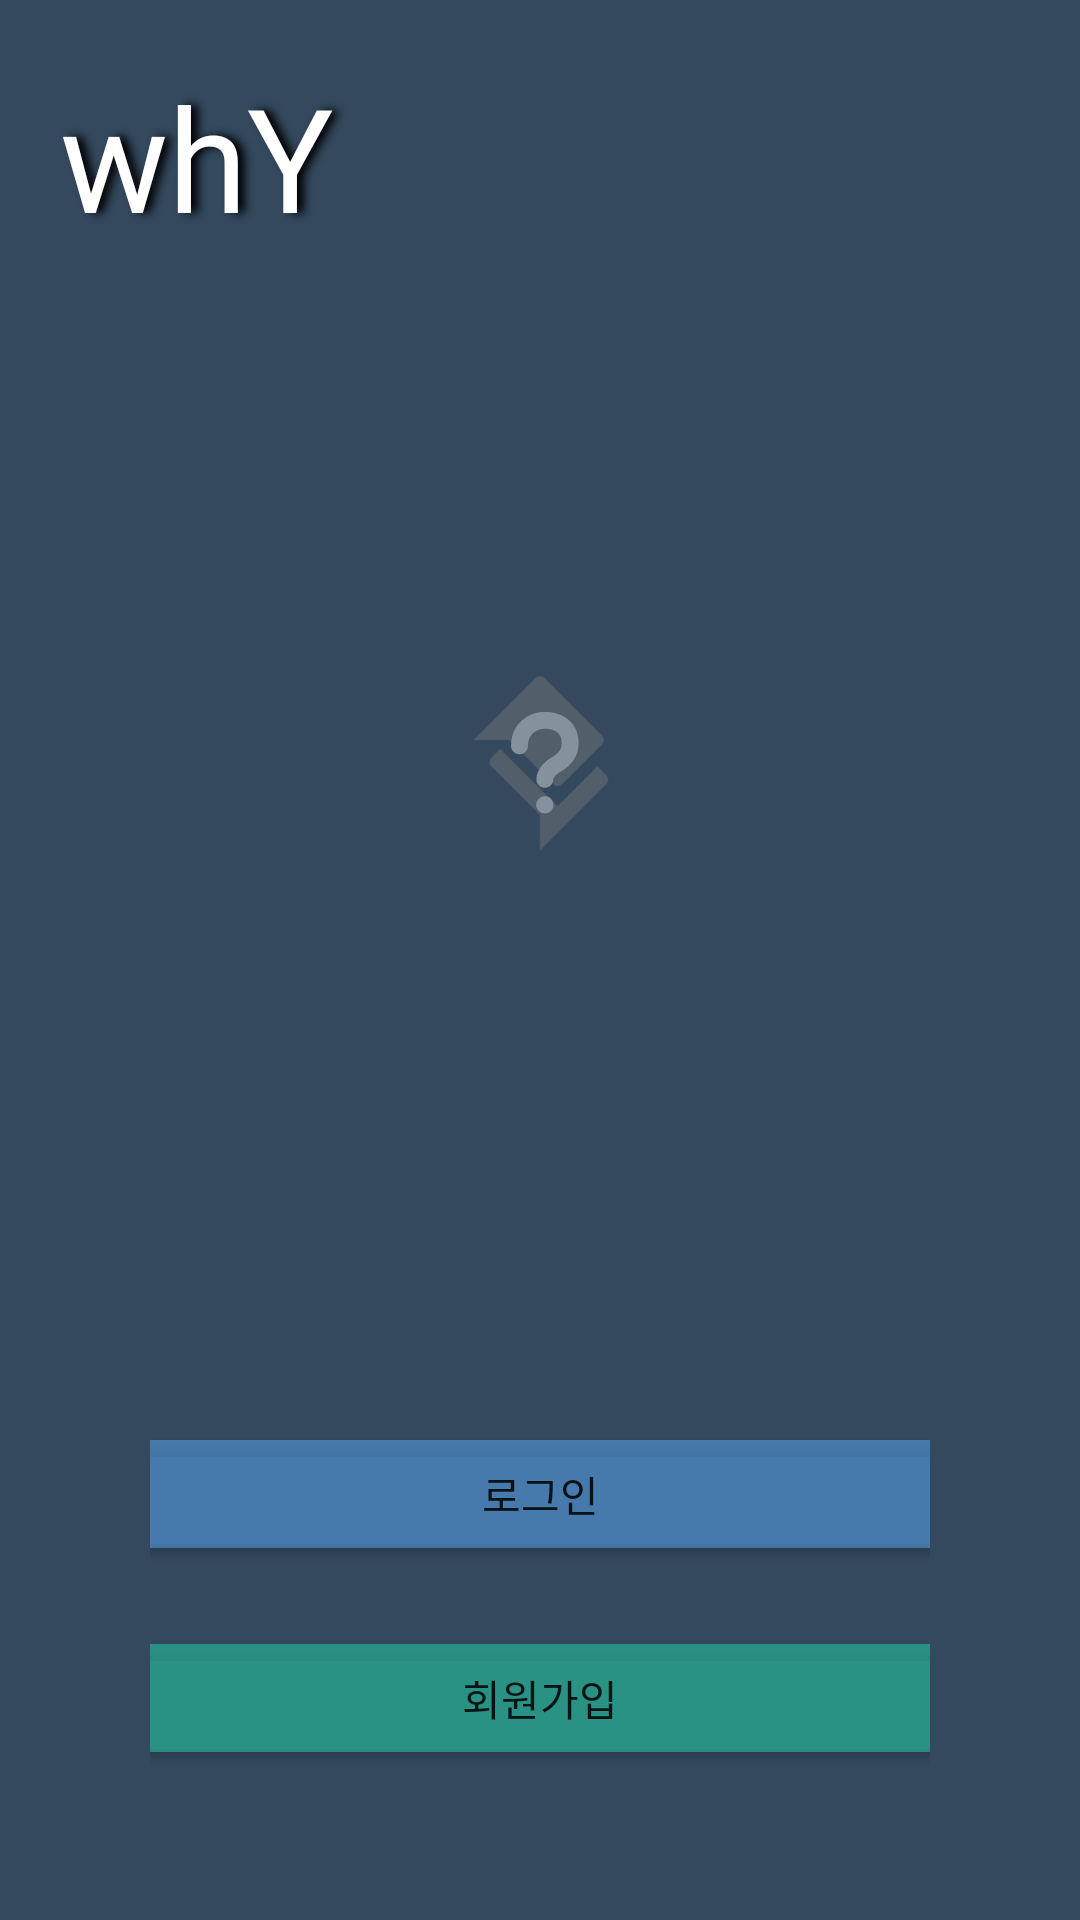

Point at icon controls on the screen. Image size 1080*1920, points as [x,y].
question: [543,762]
